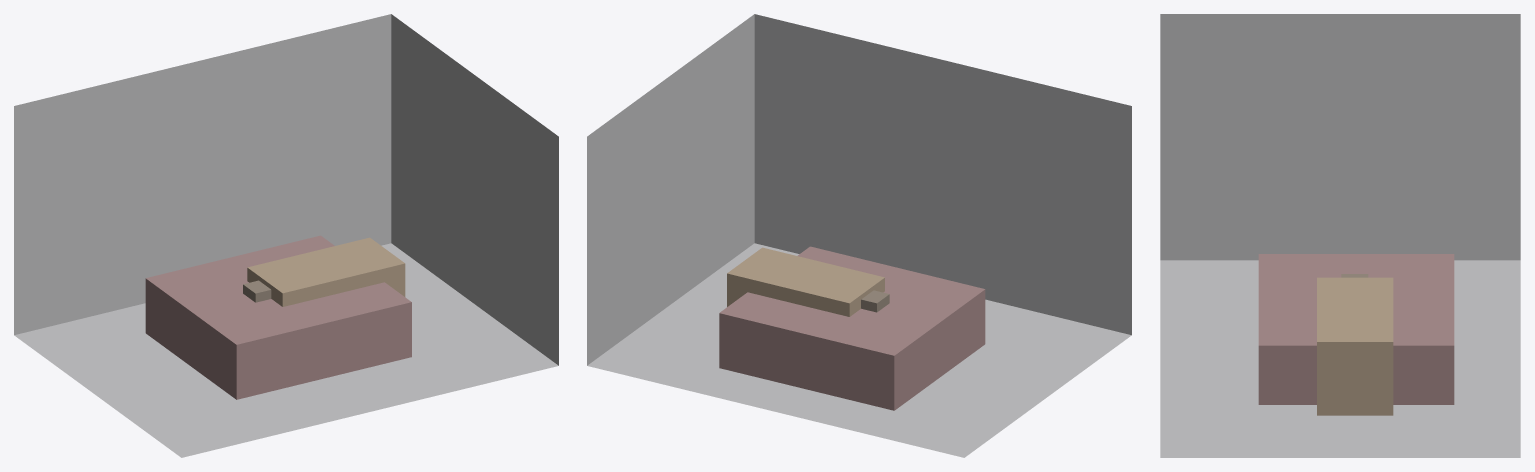
File: current_layout.glb
The picture shows the model from 3 angles, left to right: view 1: azimuth 30°, elevation 25°; view 2: azimuth 150°, elevation 25°; view 3: azimuth 270°, elevation 25°; orthographic projection. The views are drawn at different scales.
Parts seen in each view (by area): view 1: room, bed, desk; view 2: room, bed, desk; view 3: room, bed, desk.
Part boxes in pixels (left/top/right/bottom): room: left=14, top=14, right=558, bottom=457; bed: left=145, top=235, right=411, bottom=399; desk: left=247, top=237, right=405, bottom=306; room: left=587, top=14, right=1131, bottom=457; bed: left=719, top=246, right=985, bottom=410; desk: left=727, top=247, right=884, bottom=316; room: left=1160, top=14, right=1520, bottom=457; bed: left=1258, top=254, right=1454, bottom=404; desk: left=1317, top=277, right=1393, bottom=415.
Bounding box in the file's own units: 4.31 × 2.5 × 3.31.
